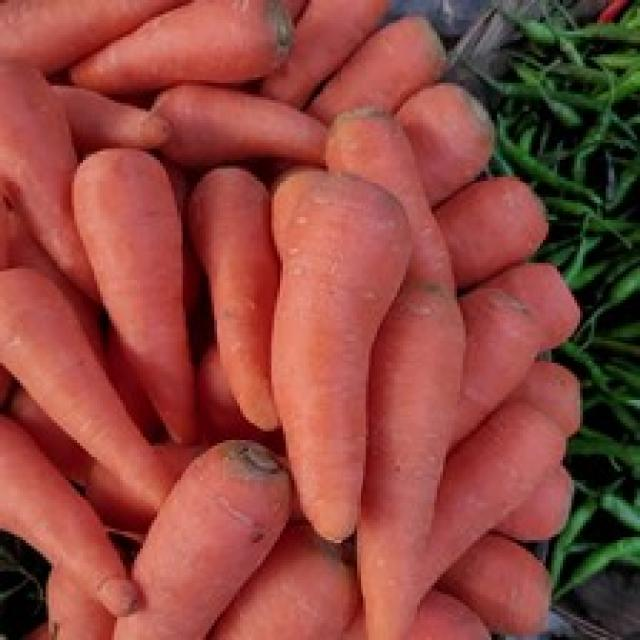Fresh_Carrot: (325, 91, 470, 620), (9, 245, 177, 518), (280, 179, 396, 516), (154, 409, 291, 640), (84, 168, 200, 436), (64, 4, 298, 89)
